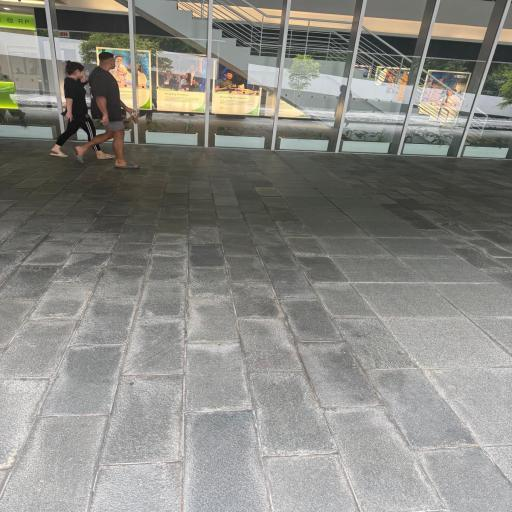person_right: (73, 51, 140, 169), (49, 60, 115, 160)
